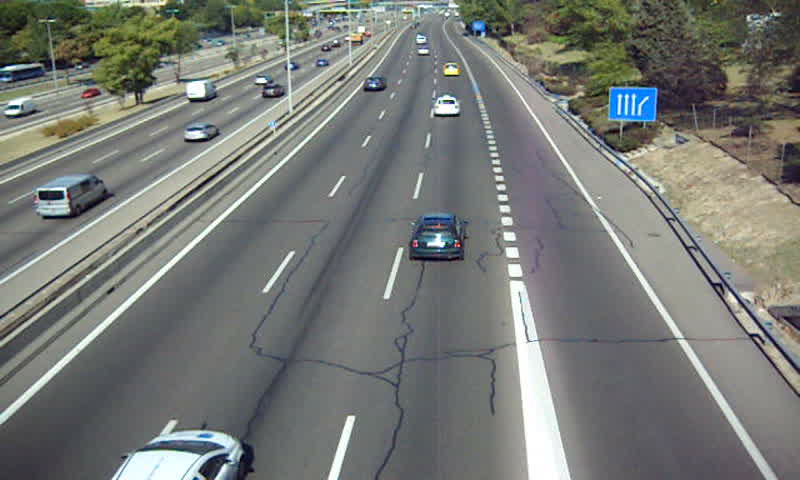car: (409, 215, 463, 260), (432, 94, 461, 116), (361, 77, 386, 92), (416, 46, 431, 58)
